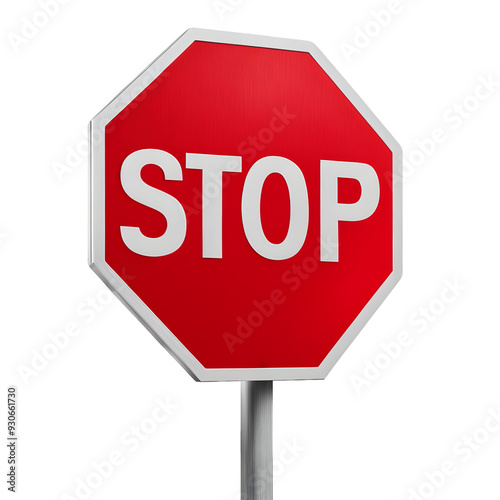StopSign: (88, 26, 402, 380)
